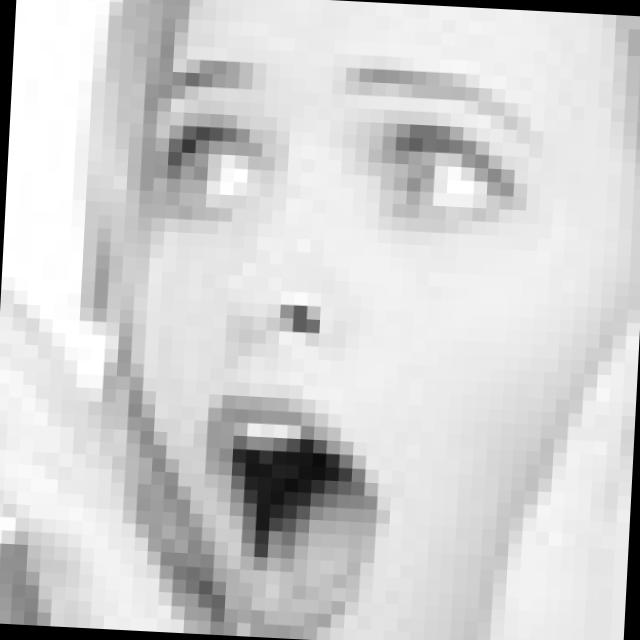fear: (121, 51, 548, 640)
